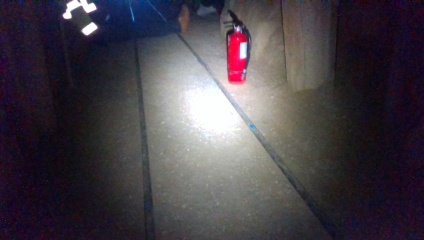fire_extinguisher: (224, 13, 253, 84)
manikin: (59, 0, 190, 42)
